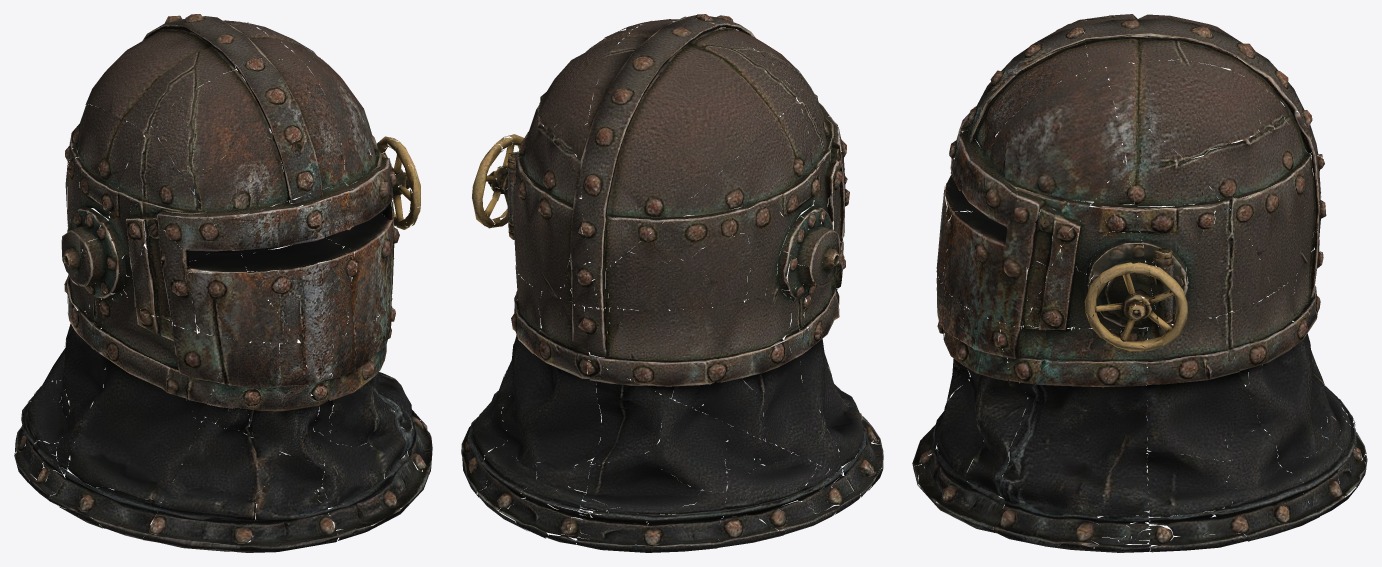
File: a_sluice_helm.glb
The picture shows the model from 3 angles, left to right: view 1: azimuth 30°, elevation 25°; view 2: azimuth 150°, elevation 25°; view 3: azimuth 270°, elevation 25°; orthographic projection. The views are drawn at different scales.
Visible parts, largest first — view 1: tripo_node_242d5b3c-4b20-494e-9c07-7c95722780ba; view 2: tripo_node_242d5b3c-4b20-494e-9c07-7c95722780ba; view 3: tripo_node_242d5b3c-4b20-494e-9c07-7c95722780ba.
Boxes of the visible parts, x1=… form: tripo_node_242d5b3c-4b20-494e-9c07-7c95722780ba: x1=14, y1=14, x2=432, y2=552; tripo_node_242d5b3c-4b20-494e-9c07-7c95722780ba: x1=461, y1=14, x2=883, y2=552; tripo_node_242d5b3c-4b20-494e-9c07-7c95722780ba: x1=912, y1=14, x2=1367, y2=552.
Size of the model in its own units: 0.2992 by 0.34 by 0.3127.
Materials: 1 (1 with a texture image).
